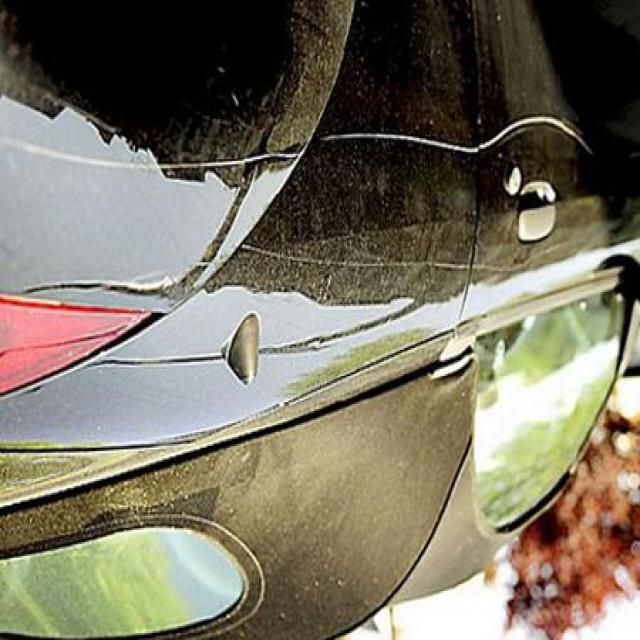scratch: (319, 105, 597, 161)
